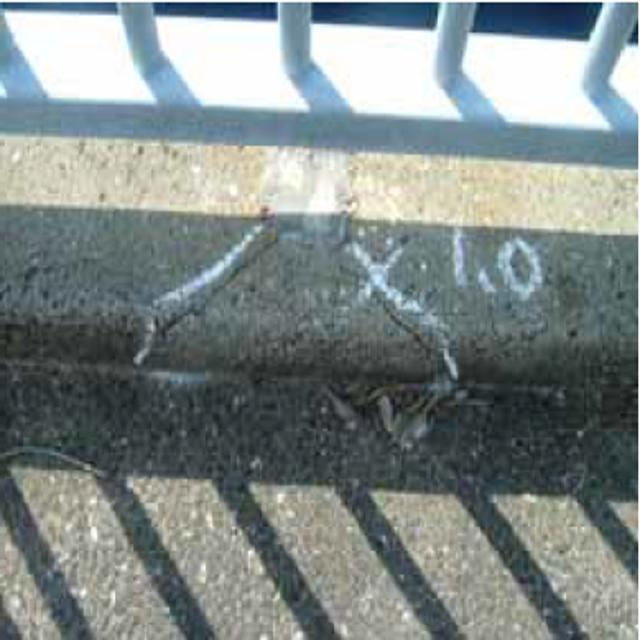crack: (136, 247, 448, 400)
